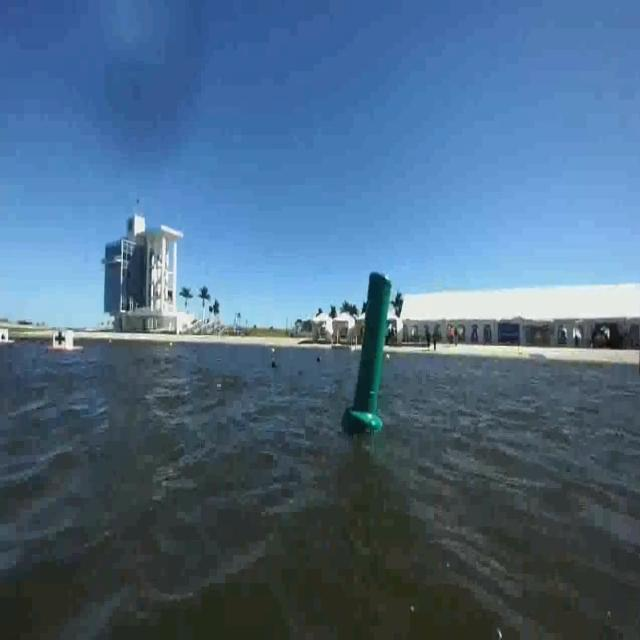green-column-buoy: (348, 269, 392, 432)
